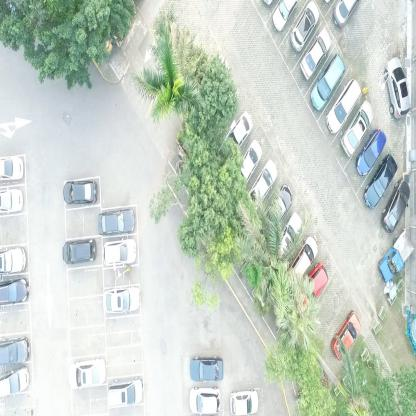car: (310, 52, 345, 112), (326, 78, 362, 134), (377, 230, 414, 283), (285, 232, 318, 291), (364, 151, 397, 210), (383, 56, 412, 122), (341, 99, 374, 156), (296, 259, 330, 314), (380, 175, 410, 234), (275, 207, 303, 269), (300, 27, 332, 80), (330, 309, 362, 361), (264, 181, 293, 238), (221, 111, 254, 161), (290, 0, 321, 52), (248, 157, 277, 209), (107, 373, 145, 412), (236, 136, 263, 190), (68, 357, 108, 389), (102, 283, 142, 314), (97, 206, 137, 235), (188, 350, 224, 382), (102, 237, 137, 269), (0, 363, 31, 397), (61, 237, 98, 265), (0, 333, 31, 366), (62, 177, 96, 207), (189, 385, 222, 415), (0, 243, 28, 277), (0, 276, 31, 305), (332, 0, 362, 29), (228, 388, 260, 415), (274, 0, 298, 33), (0, 185, 26, 214), (0, 153, 25, 181)
